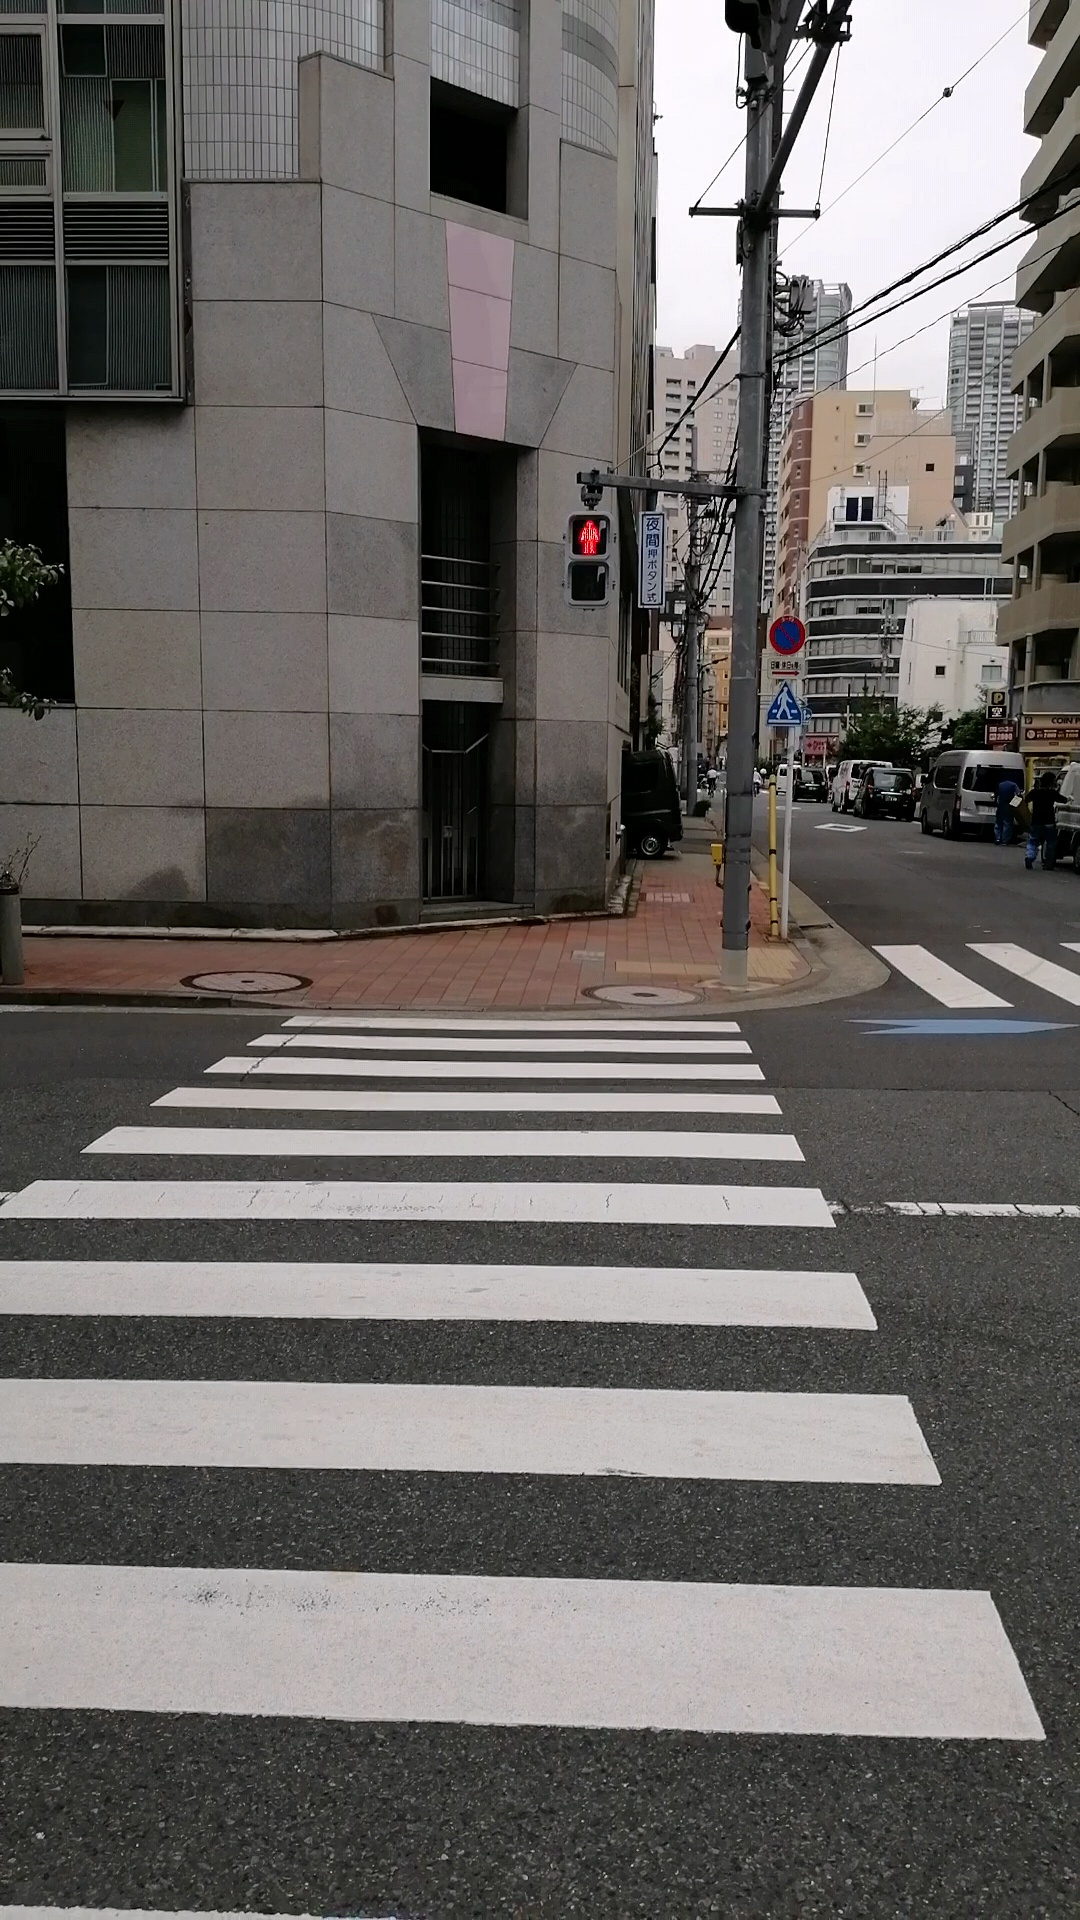red: (564, 512, 611, 609)
